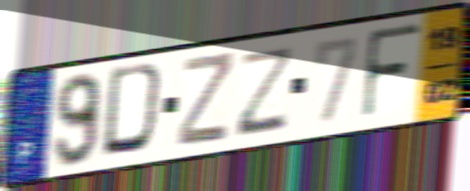7: (312, 33, 359, 127)
9: (49, 69, 103, 170)
D: (99, 60, 170, 160)
F: (359, 20, 424, 123)
Z: (232, 43, 298, 140), (175, 49, 237, 149)
